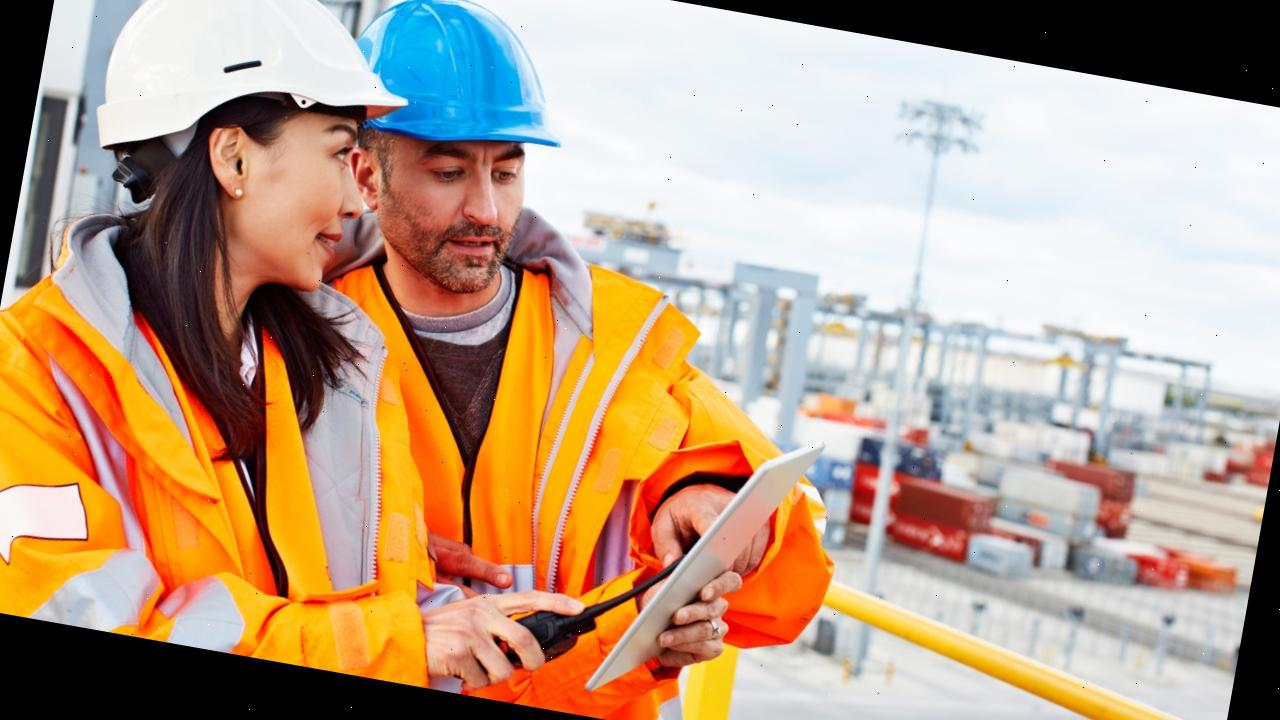helmet: (73, 0, 422, 205), (357, 0, 588, 168)
wear: (284, 267, 848, 720), (0, 267, 406, 674)
